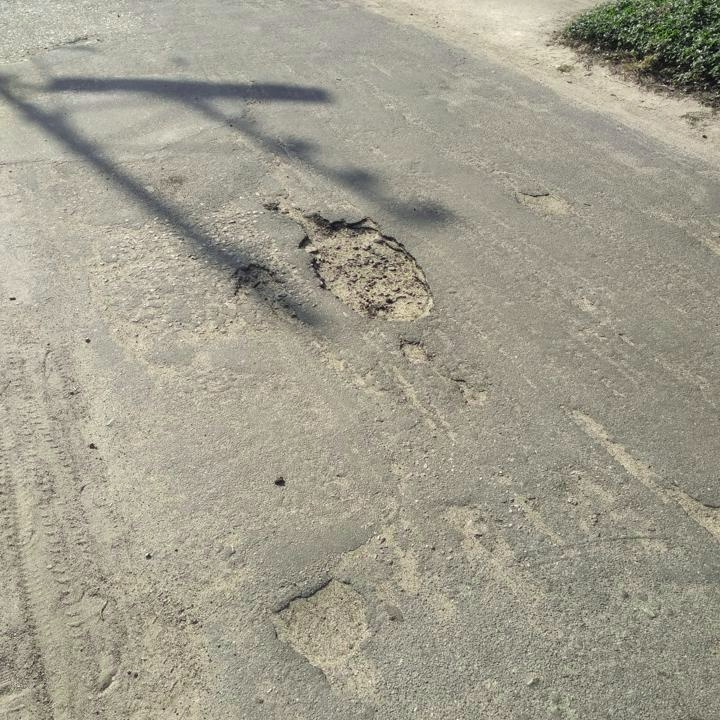pothole: (269, 197, 441, 325), (265, 572, 383, 694), (230, 259, 303, 326), (671, 480, 719, 542), (511, 186, 570, 218)
